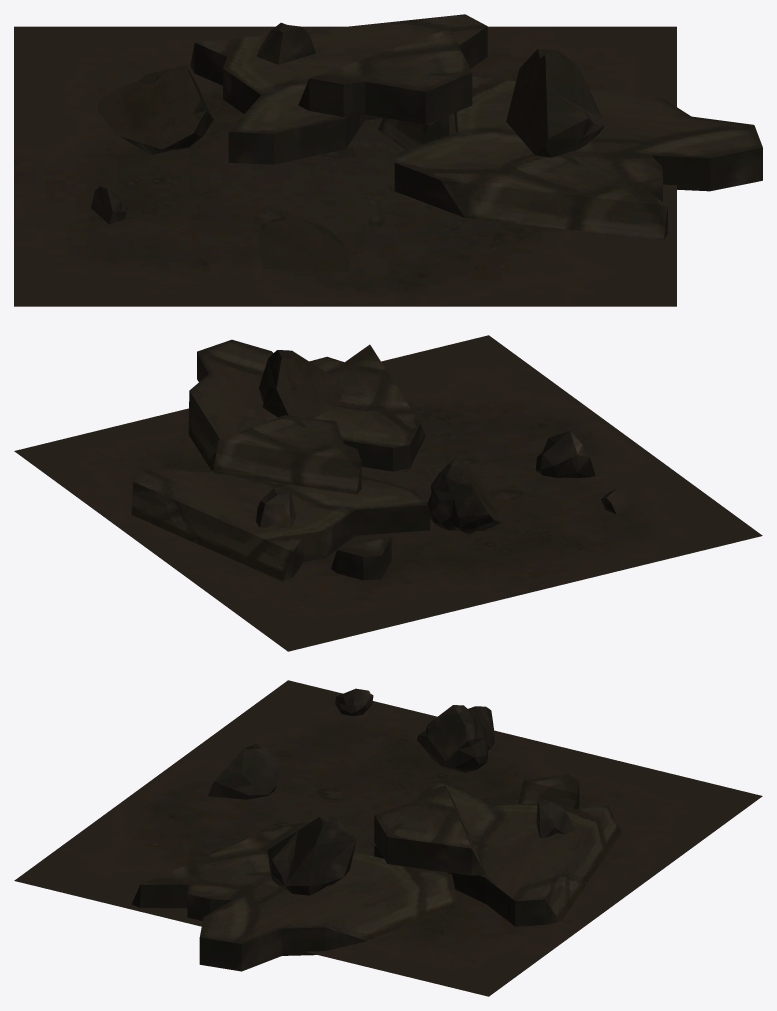
The model's file is fortress_rubble_05.fbx.
3 views of the same model, one above another, from view 1: azimuth 30°, elevation 25°; view 2: azimuth 150°, elevation 25°; view 3: azimuth 270°, elevation 25° (orthographic). The views are drawn at different scales.
Visible parts, largest first — view 1: fortress_rubble_05-0; view 2: fortress_rubble_05-0; view 3: fortress_rubble_05-0.
Boxes of the visible parts, x1,y1,x2,y2 form: fortress_rubble_05-0: (14,14,762,306); fortress_rubble_05-0: (14,335,762,651); fortress_rubble_05-0: (14,680,762,996).
Bounding box in the file's own units: 4.33 × 0.5895 × 4.33.
